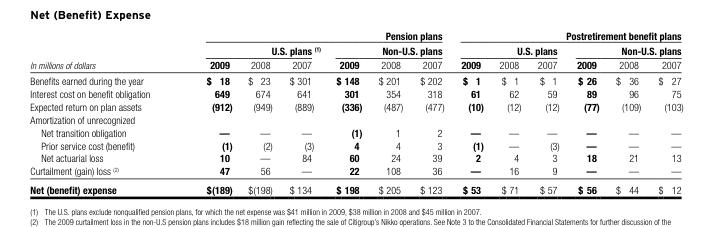table: (29, 28, 682, 195)
table column: (29, 28, 177, 195), (177, 28, 239, 195), (280, 28, 327, 195), (327, 28, 369, 195), (410, 28, 452, 195), (606, 28, 648, 195), (239, 28, 280, 195), (369, 28, 410, 195), (528, 28, 567, 195), (567, 28, 606, 195), (452, 28, 490, 195), (490, 28, 528, 195), (648, 28, 682, 195)
table column header: (29, 28, 682, 72)
table projected row header: (29, 112, 682, 125)
table row: (29, 164, 682, 180), (29, 42, 682, 57), (29, 57, 682, 72), (29, 72, 682, 87), (29, 180, 682, 195), (29, 28, 682, 42), (29, 99, 682, 112), (29, 112, 682, 125), (29, 125, 682, 138), (29, 138, 682, 151), (29, 151, 682, 164), (29, 87, 682, 99)
table spanning cell: (29, 28, 177, 72), (177, 28, 452, 42), (452, 28, 682, 42), (177, 42, 327, 57), (327, 42, 452, 57), (452, 42, 567, 57), (567, 42, 682, 57)
